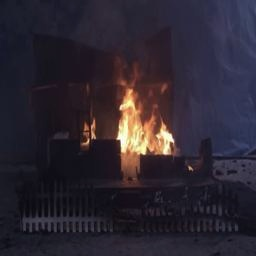fire: (107, 62, 172, 160)
